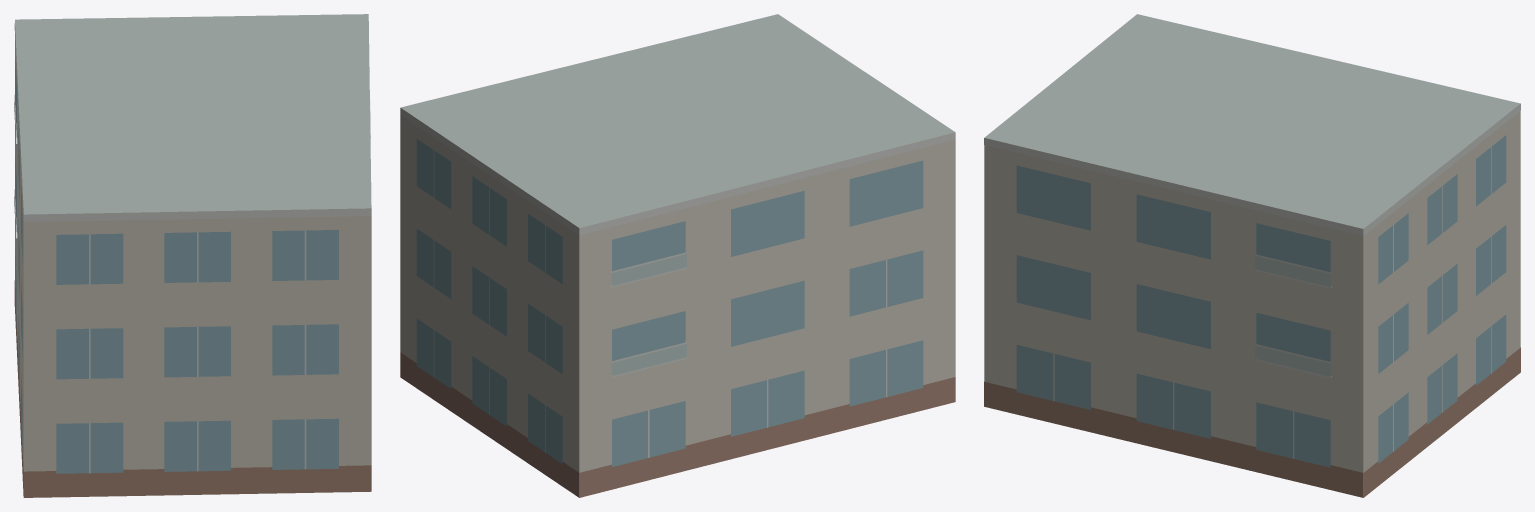
File: survey-upis-32931342.glb
3 views of the same model, side by side, from view 1: azimuth 30°, elevation 25°; view 2: azimuth 150°, elevation 25°; view 3: azimuth 270°, elevation 25° (orthographic). The views are drawn at different scales.
Parts seen in each view (by area): view 1: survey-upis-32931342.tmp; view 2: survey-upis-32931342.tmp; view 3: survey-upis-32931342.tmp.
Boxes of the visible parts, x1,y1,x2,y2 form: survey-upis-32931342.tmp: (14, 14, 371, 497); survey-upis-32931342.tmp: (400, 14, 955, 497); survey-upis-32931342.tmp: (984, 14, 1520, 497).
Bounding box in the file's own units: 15.7 × 9.15 × 16.56.
